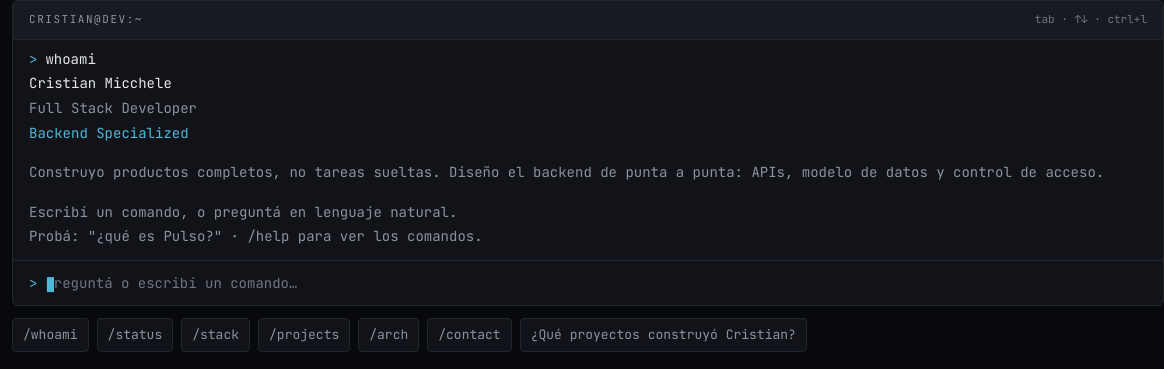
Test: Console — una sola, dos formas de hablarle › lo que no es un comando se manda al agente
The width and height of the screenshot is (1164, 369).
Type "¿qué es Pulso?" into the field named "consola" at (596,283), box [45, 273, 1147, 293]
Then press Enter
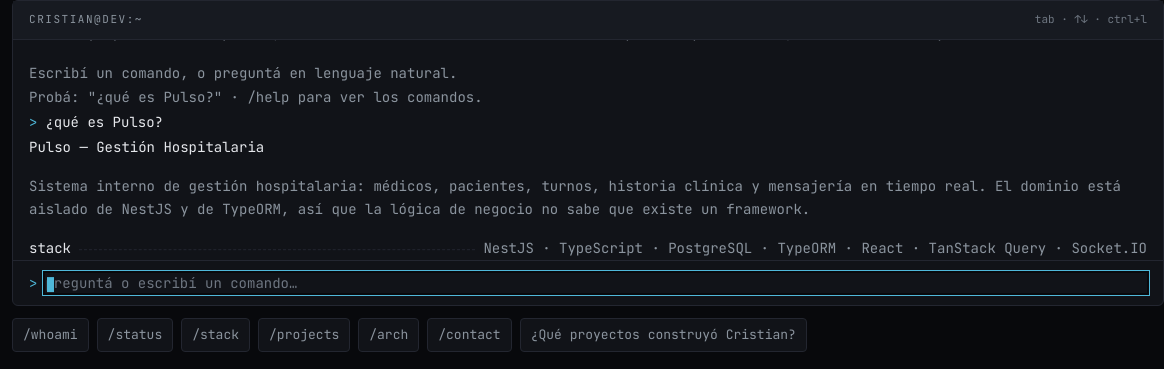
expect the text "Pulso — Gestión Hospitalaria" is shown: met, box [29, 138, 264, 156]
